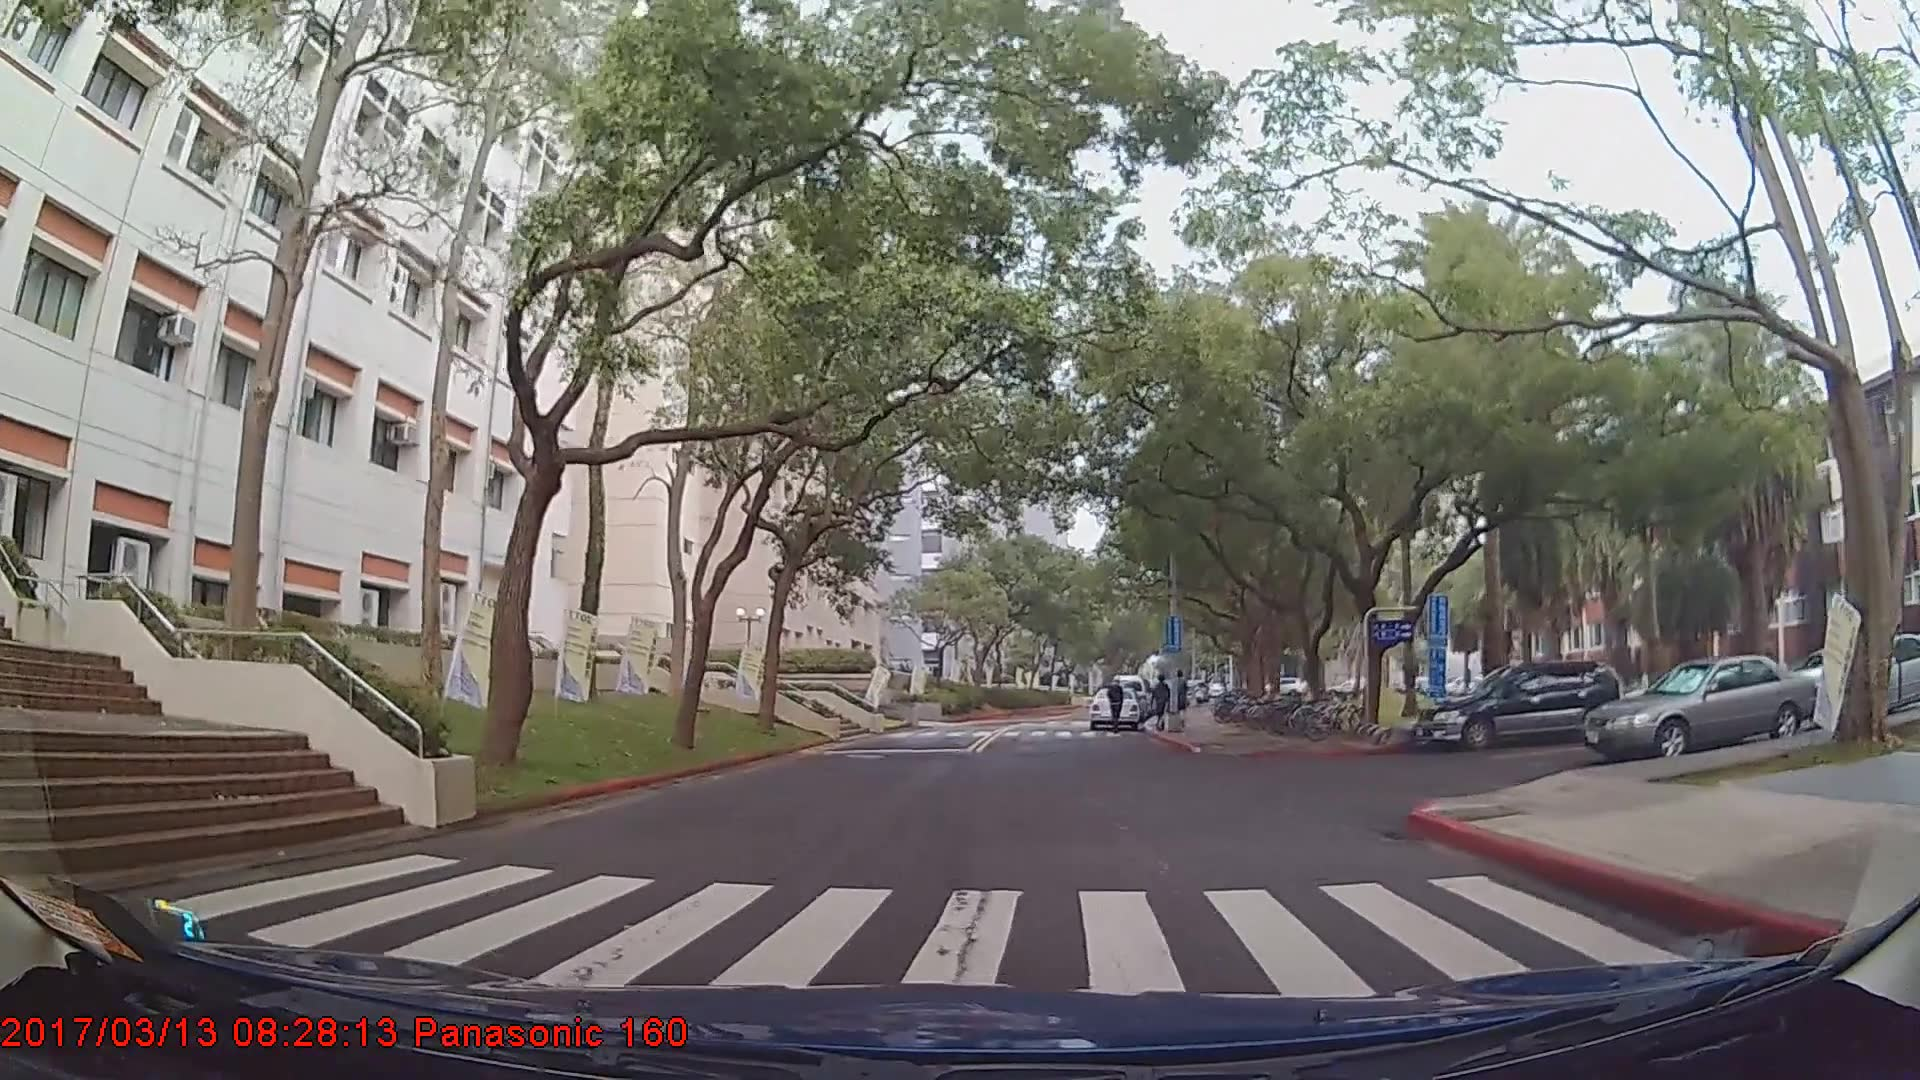pedestrian: (1153, 678, 1175, 731), (1105, 682, 1125, 739)
vehicle: (1585, 654, 1816, 766), (1419, 660, 1622, 753), (1085, 687, 1141, 732)
